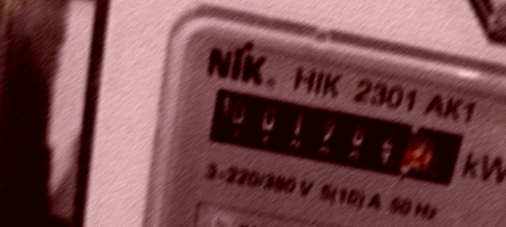0: (259, 103, 279, 134), (229, 97, 249, 127)
1: (290, 107, 306, 138)
2: (379, 121, 401, 152)
8: (350, 119, 369, 149)
9: (410, 131, 433, 162), (319, 114, 337, 145)
screen: (190, 73, 480, 203)
